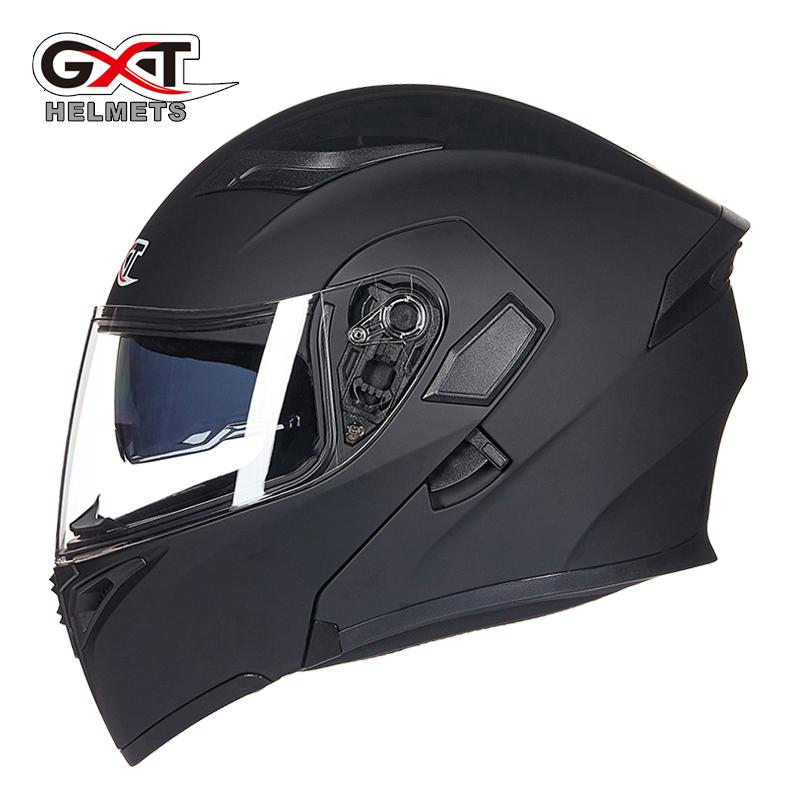with_helmet: (43, 81, 756, 774)
